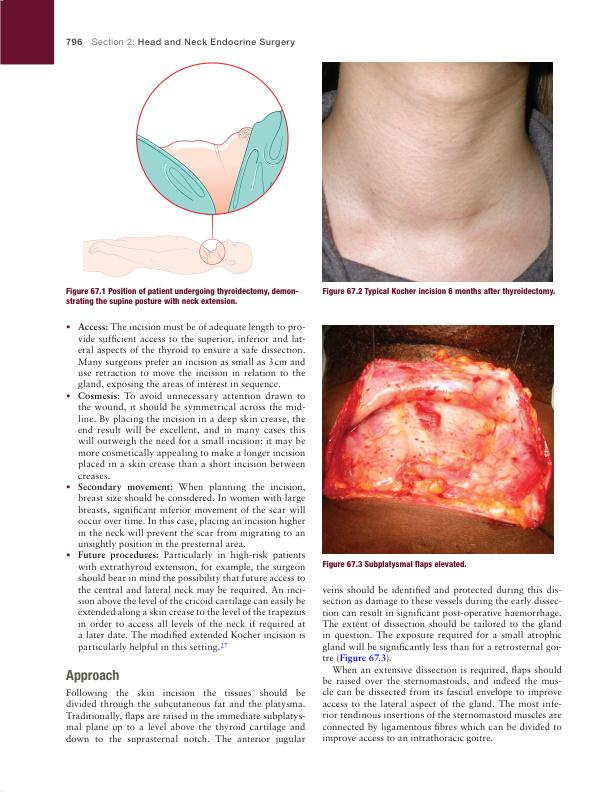caption: (64, 286, 300, 307), (322, 286, 556, 297), (323, 560, 467, 569)
header: (91, 37, 296, 49)
image: (320, 323, 554, 556), (320, 60, 555, 283), (75, 54, 300, 282)
list: (63, 318, 307, 655)
sub-section-heading: (64, 668, 121, 684)
text: (321, 584, 563, 746), (65, 687, 307, 746)
